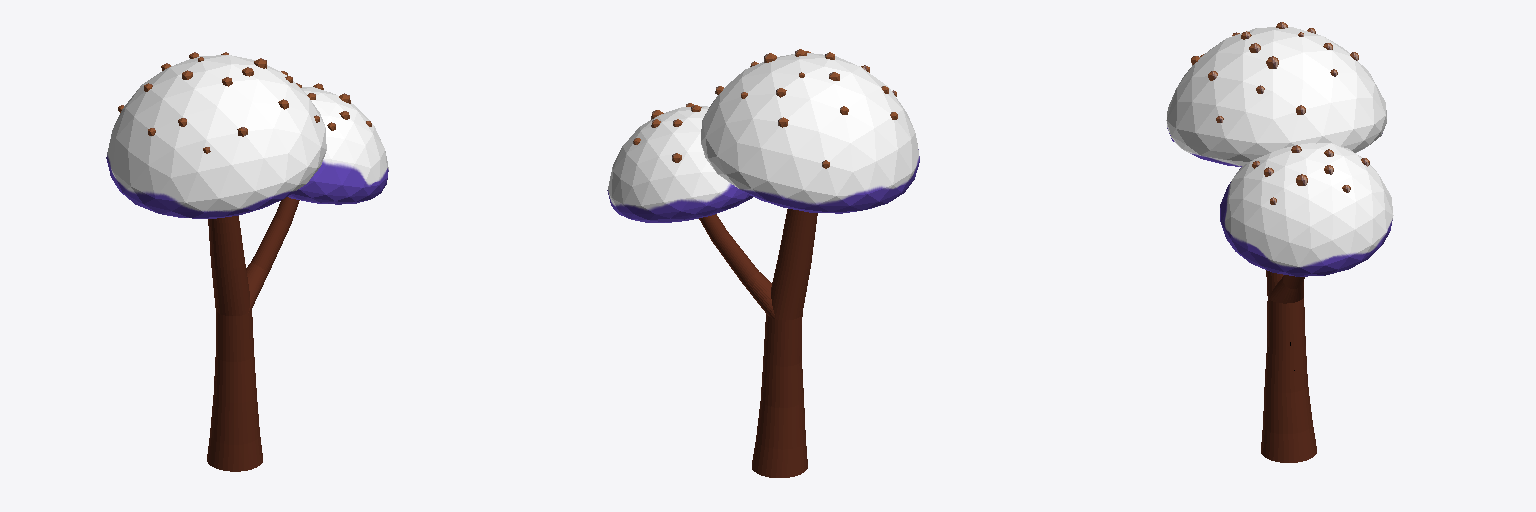
3 views of the same model, side by side, from view 1: azimuth 30°, elevation 25°; view 2: azimuth 150°, elevation 25°; view 3: azimuth 270°, elevation 25° (orthographic).
Parts seen in each view (by area): view 1: Icosphere, Cylinder; view 2: Icosphere, Cylinder; view 3: Icosphere, Cylinder.
Part boxes in pixels (bbox=[...]): Icosphere: bbox=[106, 55, 388, 218]; Cylinder: bbox=[207, 197, 299, 471]; Icosphere: bbox=[607, 53, 919, 222]; Cylinder: bbox=[699, 209, 817, 477]; Icosphere: bbox=[1166, 27, 1393, 276]; Cylinder: bbox=[1261, 270, 1316, 462].
Size of the model in its own units: 11.01 by 15.85 by 8.03.
3 materials, 3 textured.